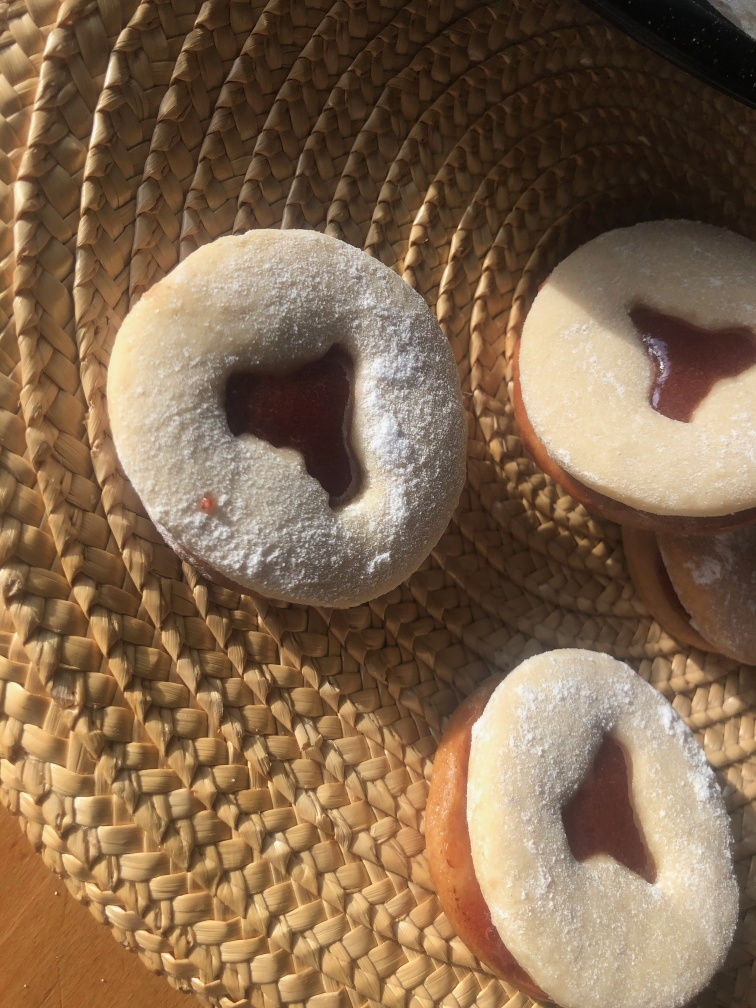christmas shortbread with jam: (103, 222, 468, 605), (434, 649, 744, 1008), (518, 212, 756, 534)
